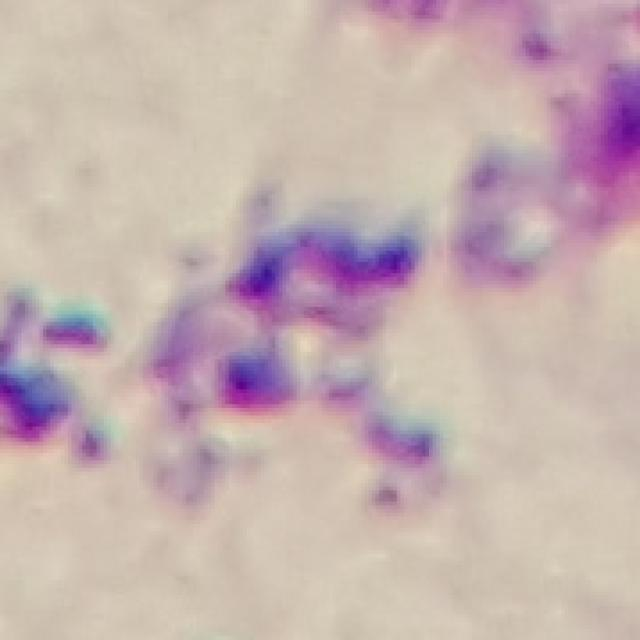non-sperm: (161, 216, 441, 461)
